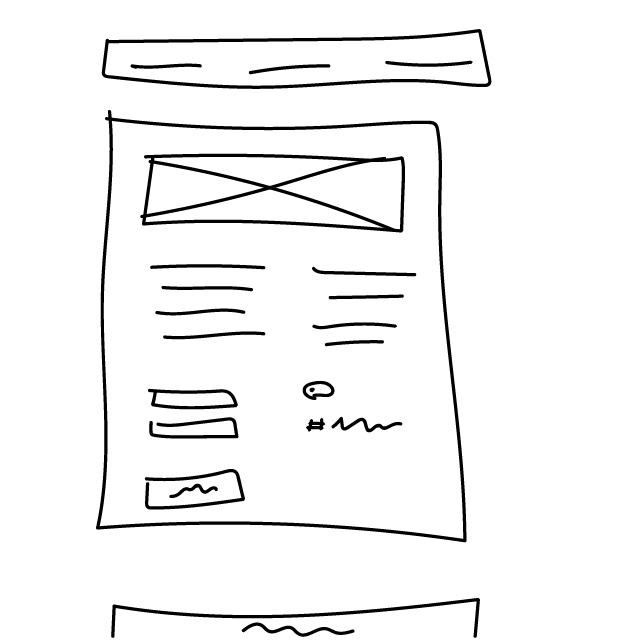buttonrotation: (140, 470, 248, 513)
checkboxrotation: (302, 380, 341, 402)
containerrotation: (85, 108, 487, 564)
footerrotation: (101, 592, 489, 640)
framerotation: (140, 150, 411, 237)
headingrotation: (302, 408, 404, 441)
inputrotation: (148, 384, 241, 414), (147, 415, 244, 441)
navrotation: (99, 27, 497, 100)
textrotation: (149, 259, 280, 355), (306, 264, 423, 360)
